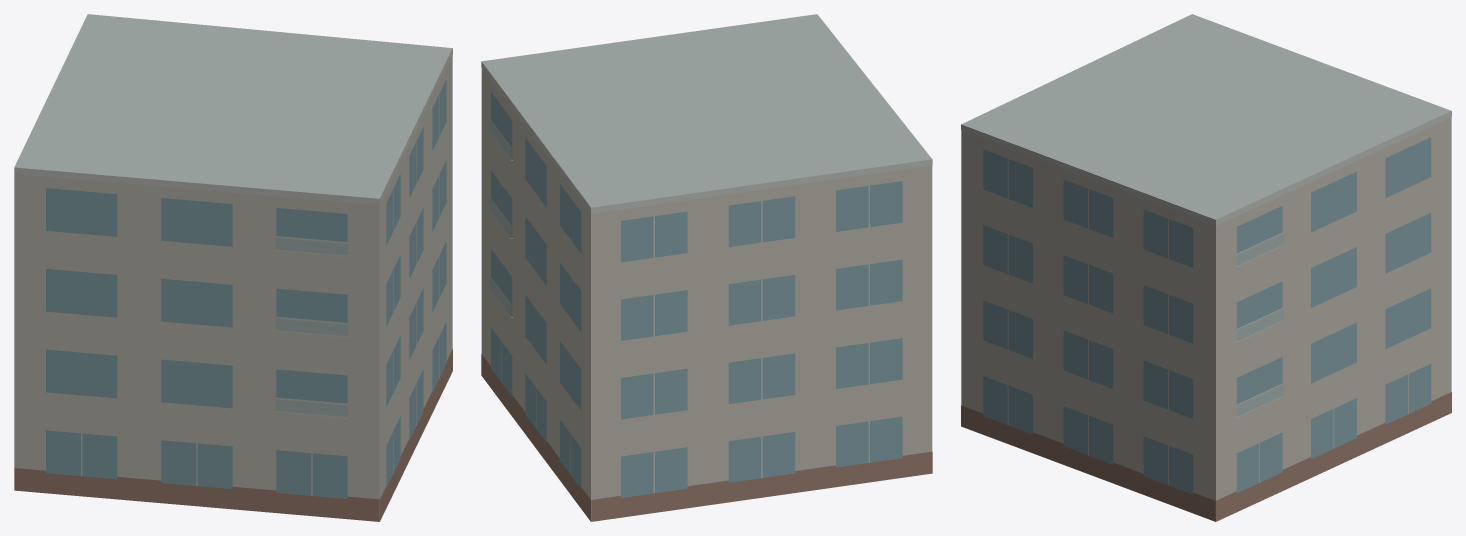
Rendered from survey-upis-32969996.glb.
The picture shows the model from 3 angles, left to right: view 1: azimuth 30°, elevation 25°; view 2: azimuth 150°, elevation 25°; view 3: azimuth 270°, elevation 25°; orthographic projection. The views are drawn at different scales.
Visible parts, largest first — view 1: survey-upis-32969996.tmp; view 2: survey-upis-32969996.tmp; view 3: survey-upis-32969996.tmp.
Boxes of the visible parts, box(x1,y1,x2,y2) form: survey-upis-32969996.tmp: box(14, 14, 452, 521); survey-upis-32969996.tmp: box(481, 14, 932, 521); survey-upis-32969996.tmp: box(961, 14, 1451, 521).
Size of the model in its own units: 17.84 by 12.2 by 17.96.
